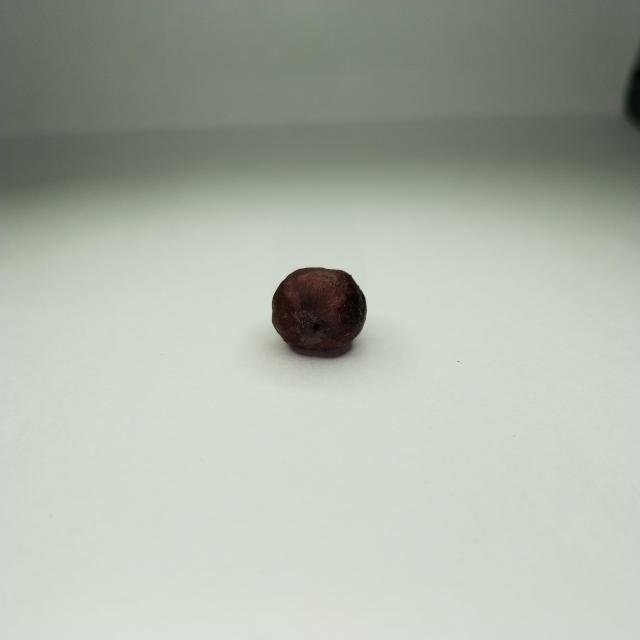Infectado: (273, 270, 365, 356)
